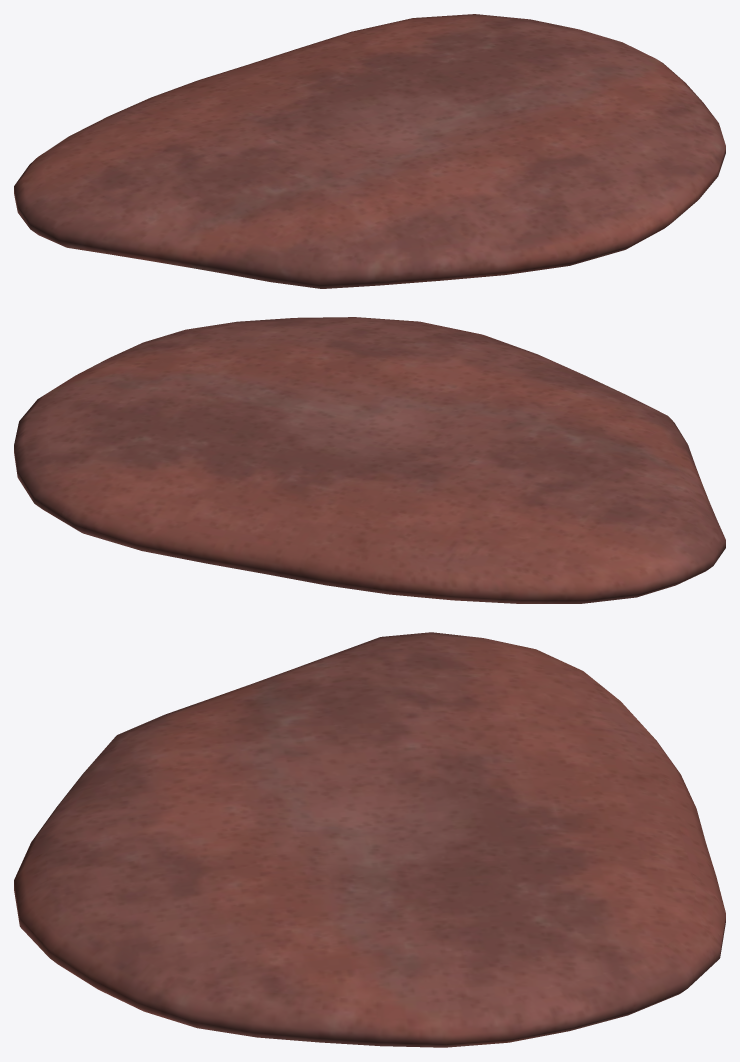
File: red_sandstone_08.glb
3 renders of one model, top to bottom at view 1: azimuth 30°, elevation 25°; view 2: azimuth 150°, elevation 25°; view 3: azimuth 270°, elevation 25°, orthographic. The views are drawn at different scales.
Visible parts, largest first — view 1: red_sandstone_08; view 2: red_sandstone_08; view 3: red_sandstone_08.
Part boxes in pixels (bbox=[...]): red_sandstone_08: bbox=[14, 14, 725, 288]; red_sandstone_08: bbox=[14, 317, 725, 603]; red_sandstone_08: bbox=[14, 632, 725, 1047].
Bounding box in the file's own units: 0.0781 × 0.00806 × 0.059.
Materials: 1 (1 with a texture image).
